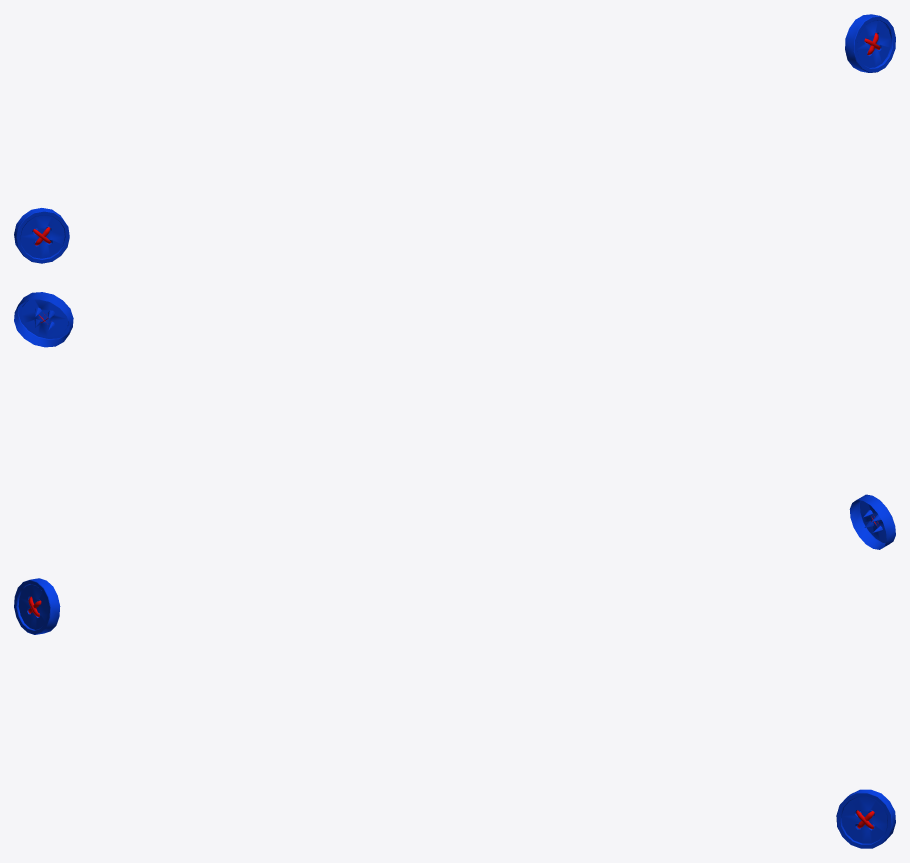
Rendered from koudainiukou.fbx.
The picture shows the model from 3 angles, top to bottom: view 1: azimuth 30°, elevation 25°; view 2: azimuth 150°, elevation 25°; view 3: azimuth 330°, elevation 25°; orthographic projection.
Visible parts, largest first — view 1: niukou04, niukou03; view 2: niukou04, niukou03; view 3: niukou04, niukou03.
Part boxes in pixels (x1,y1,x2,y2): niukou04: [845, 14, 895, 72]; niukou03: [14, 208, 69, 263]; niukou04: [14, 292, 73, 347]; niukou03: [849, 494, 895, 549]; niukou04: [836, 789, 895, 848]; niukou03: [14, 578, 60, 634].
Bounding box in the file's own units: 18.83 × 1.18 × 0.7769.
